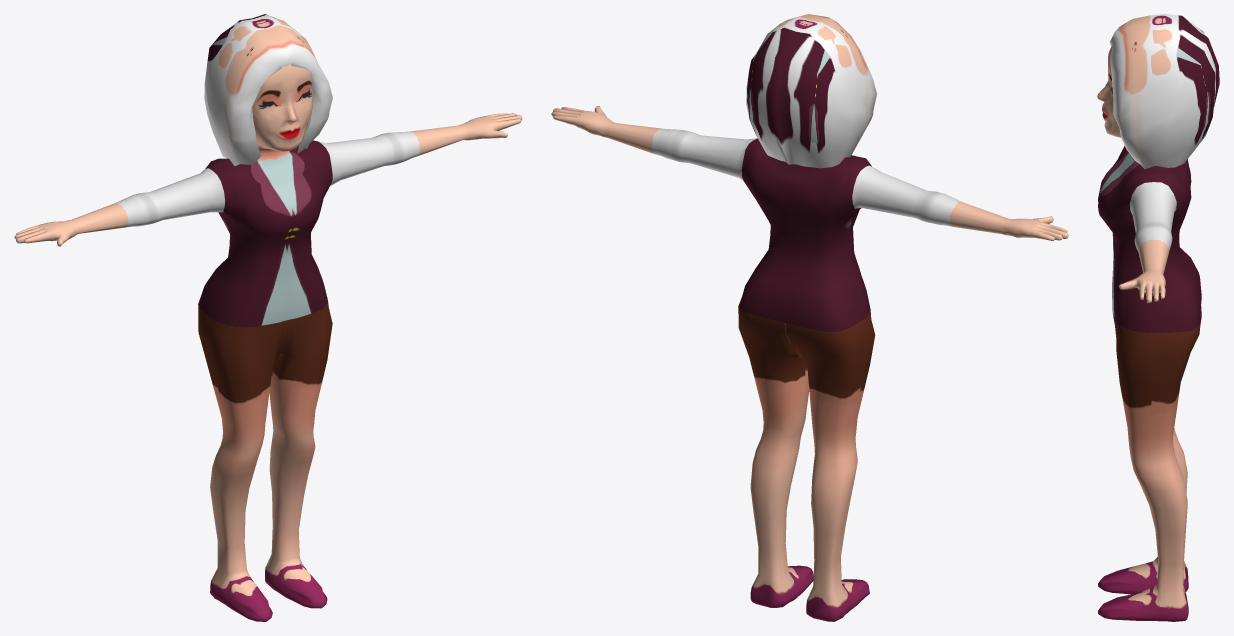
File: girl test.fbx
3 views of the same model, side by side, from view 1: azimuth 30°, elevation 25°; view 2: azimuth 150°, elevation 25°; view 3: azimuth 270°, elevation 25° (orthographic).
Visible parts, largest first — view 1: Plane; view 2: Plane; view 3: Plane.
Part boxes in pixels (box(x1,y1,x2,y2)): Plane: box(14, 14, 522, 621); Plane: box(551, 14, 1068, 621); Plane: box(1097, 14, 1219, 621).
Bounding box in the file's own units: 1699 × 1833 × 350.
1 material, 1 textured.
